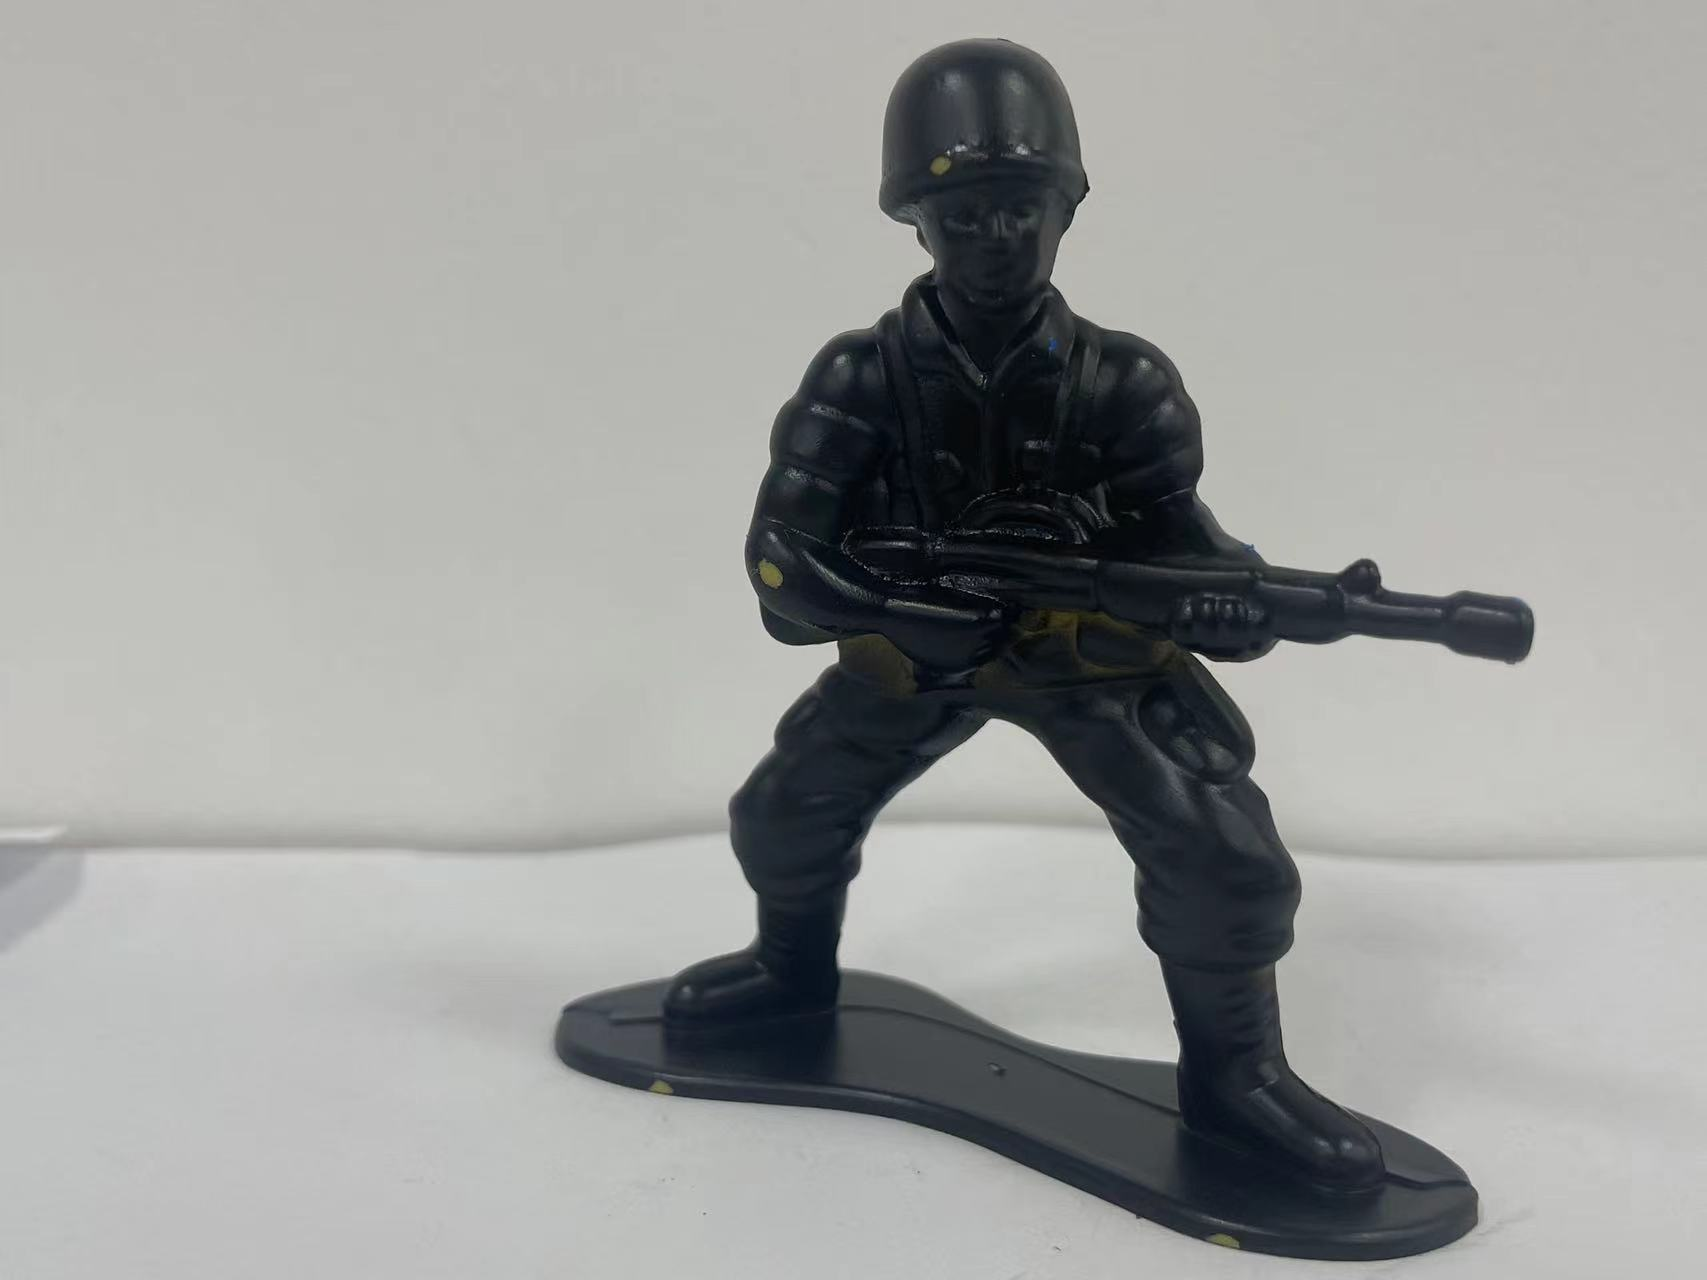black: (501, 16, 1629, 1279)
